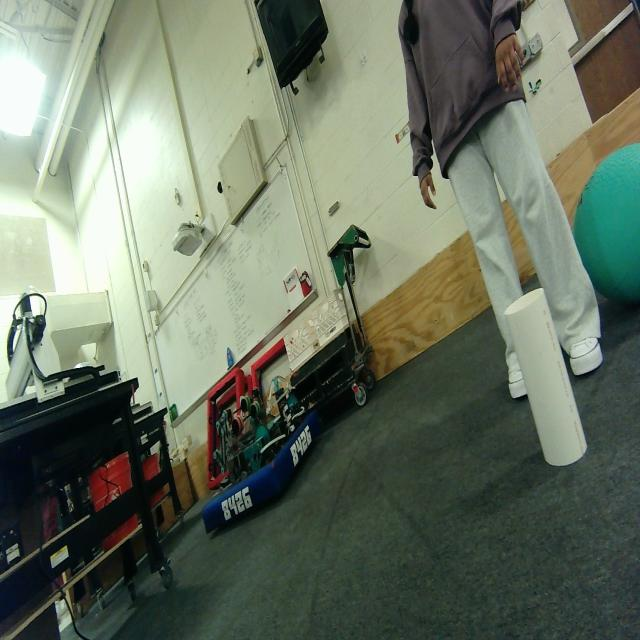algae: (573, 143, 640, 303)
coral: (505, 288, 587, 466)
